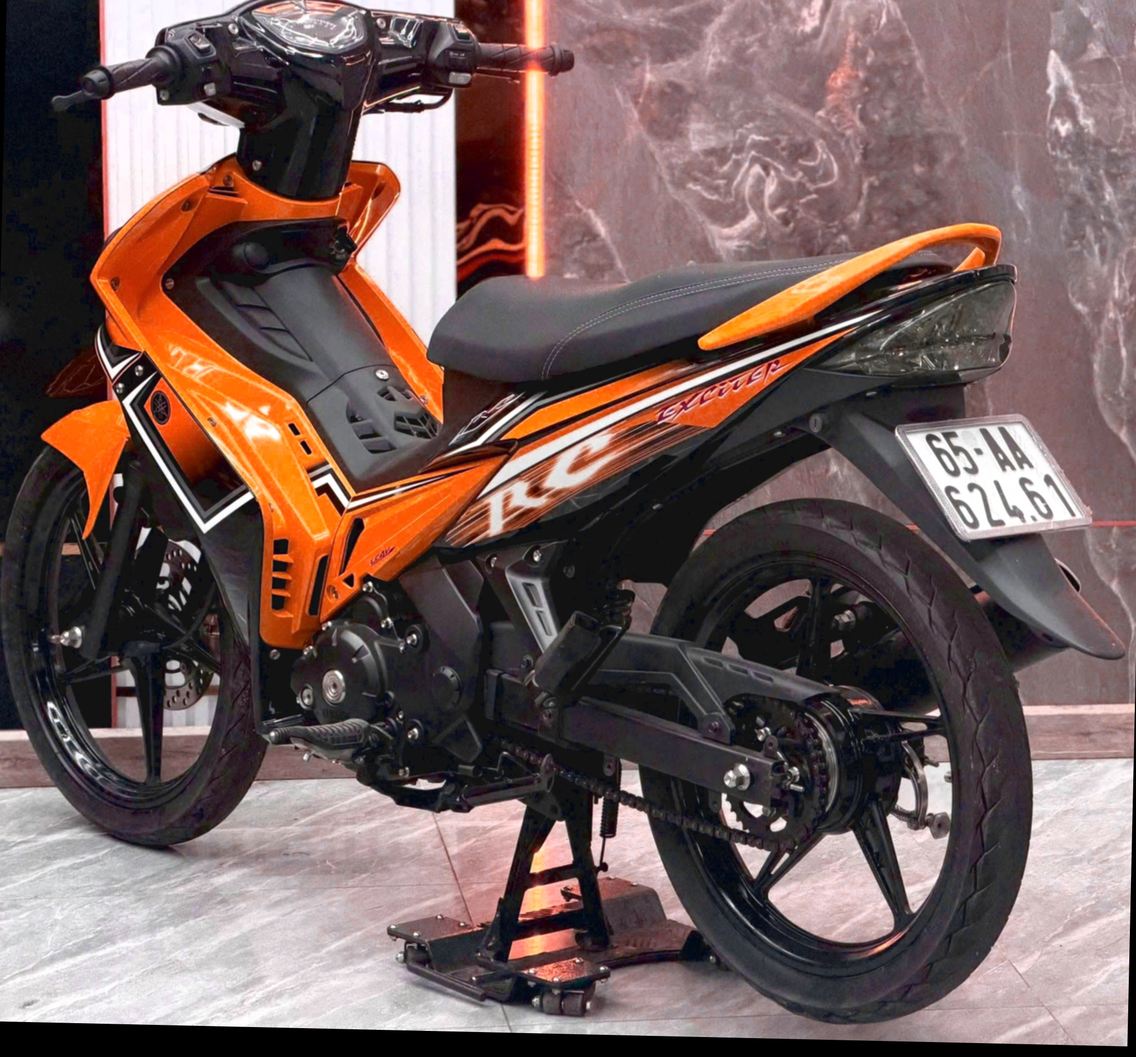Bien-so: (901, 411, 1092, 543)
